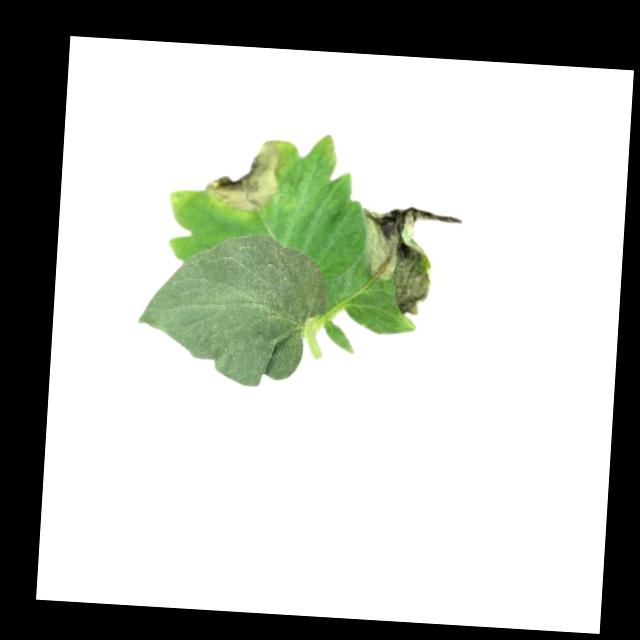Late_blight: (356, 202, 464, 322), (203, 135, 287, 216)
healthy: (132, 226, 333, 392)
